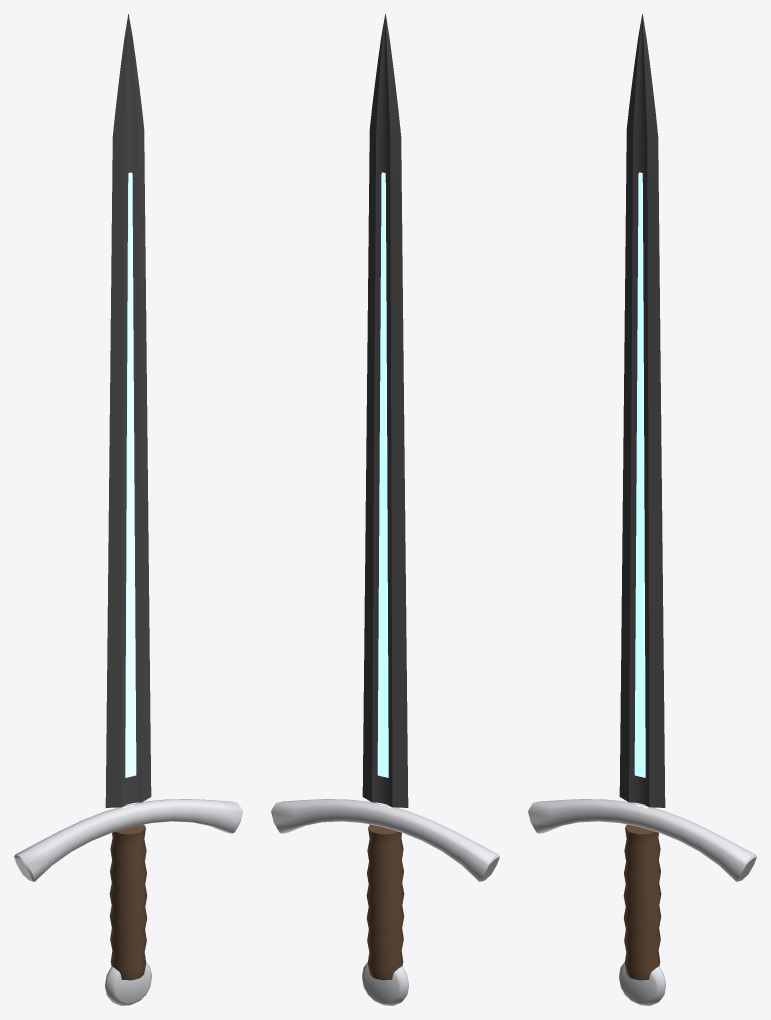
Rendered from u_riftblade.glb.
The picture shows the model from 3 angles, left to right: view 1: azimuth 30°, elevation 25°; view 2: azimuth 150°, elevation 25°; view 3: azimuth 330°, elevation 25°; orthographic projection.
Parts seen in each view (by area): view 1: u_riftblade; view 2: u_riftblade; view 3: u_riftblade.
Boxes of the visible parts, x1,y1,x2,y2 form: u_riftblade: [14, 14, 242, 1005]; u_riftblade: [271, 14, 499, 1005]; u_riftblade: [528, 14, 756, 1005].
Size of the model in its own units: 0.2518 by 1.08 by 0.0356.
